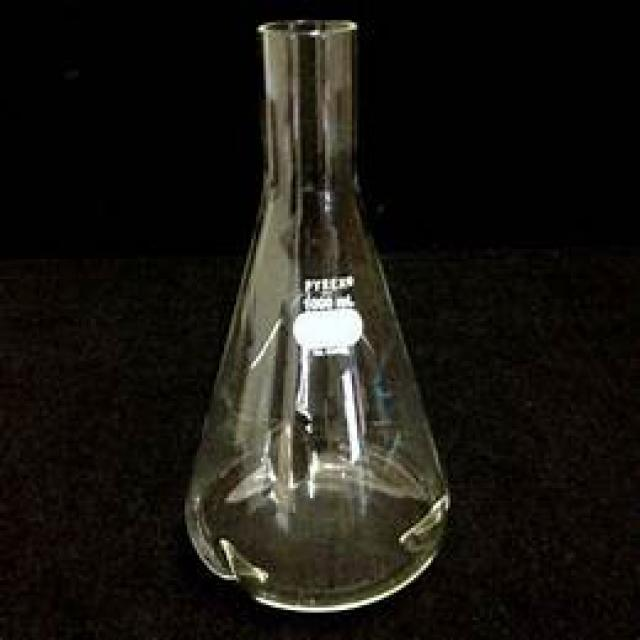Titrarion: (172, 26, 455, 612)
